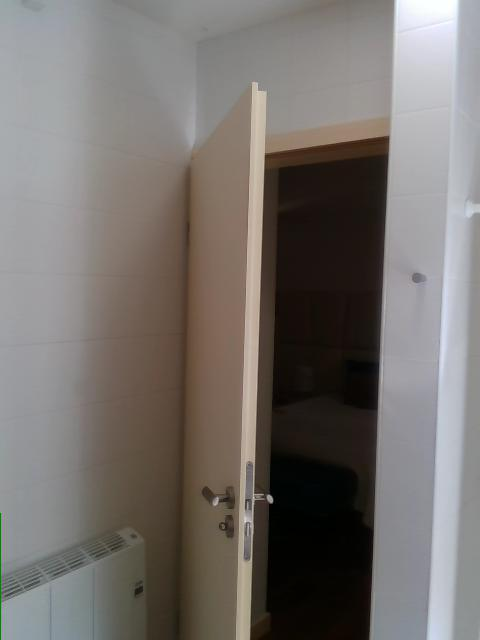semi_door: (177, 74, 389, 639)
